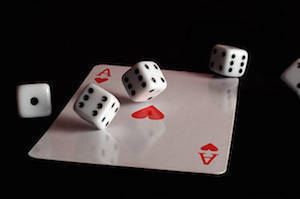AceOfHearts: (32, 60, 249, 177)
